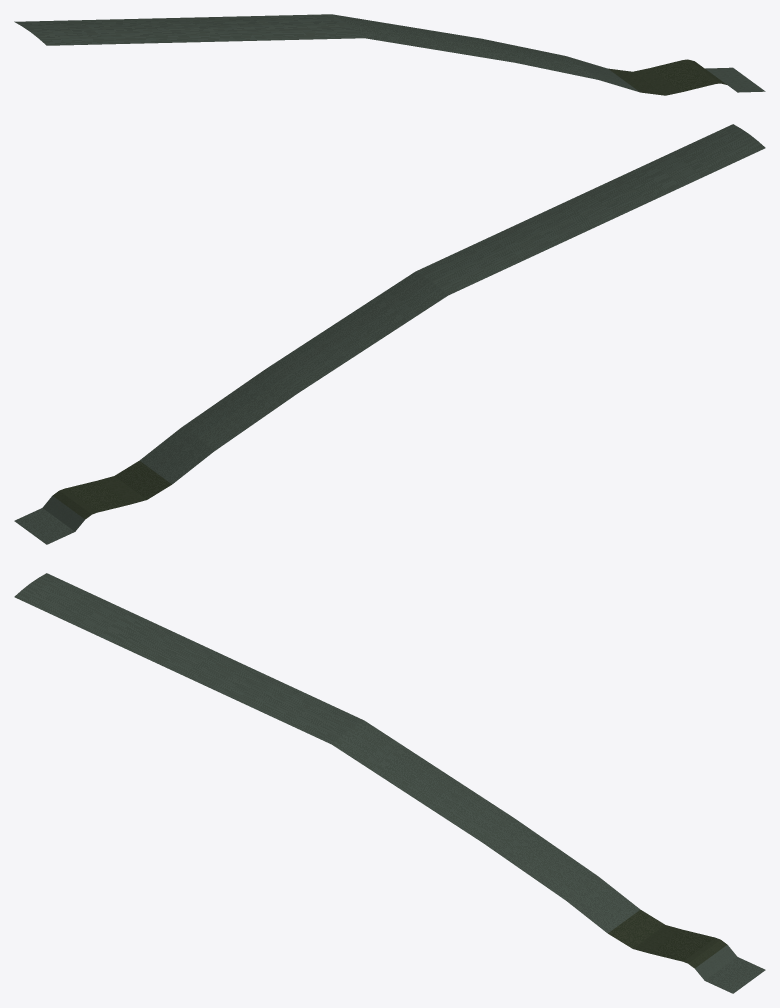
Rendered from lakeside_bank.glb.
The picture shows the model from 3 angles, top to bottom: view 1: azimuth 30°, elevation 25°; view 2: azimuth 210°, elevation 25°; view 3: azimuth 330°, elevation 25°; orthographic projection.
Parts seen in each view (by area): view 1: lakeside_bank; view 2: lakeside_bank; view 3: lakeside_bank.
Boxes of the visible parts, bbox=[...] form: lakeside_bank: bbox=[14, 14, 765, 95]; lakeside_bank: bbox=[14, 124, 765, 544]; lakeside_bank: bbox=[14, 573, 765, 993].
Size of the model in its own units: 86 by 25.5 by 6.8.
1 material, 1 textured.
